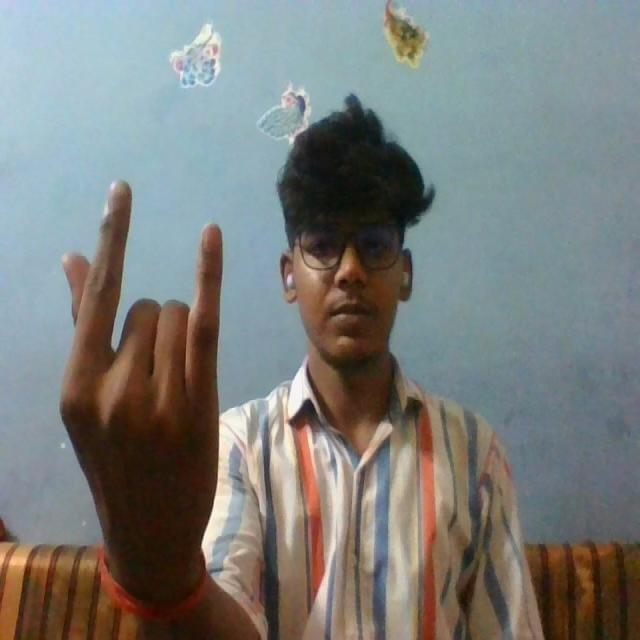ILoveYou: (52, 160, 242, 640)
